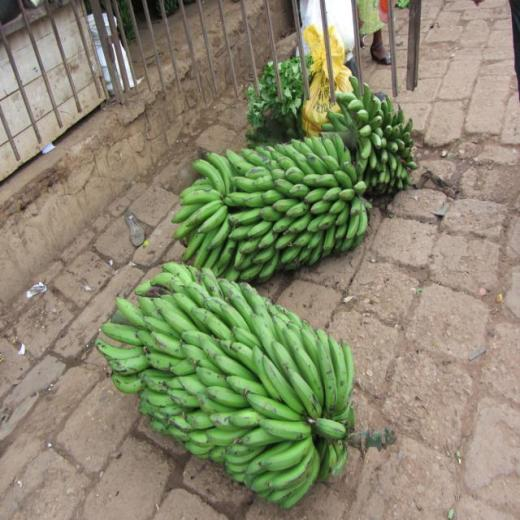Banana: (96, 75, 418, 514), (243, 388, 305, 421)
